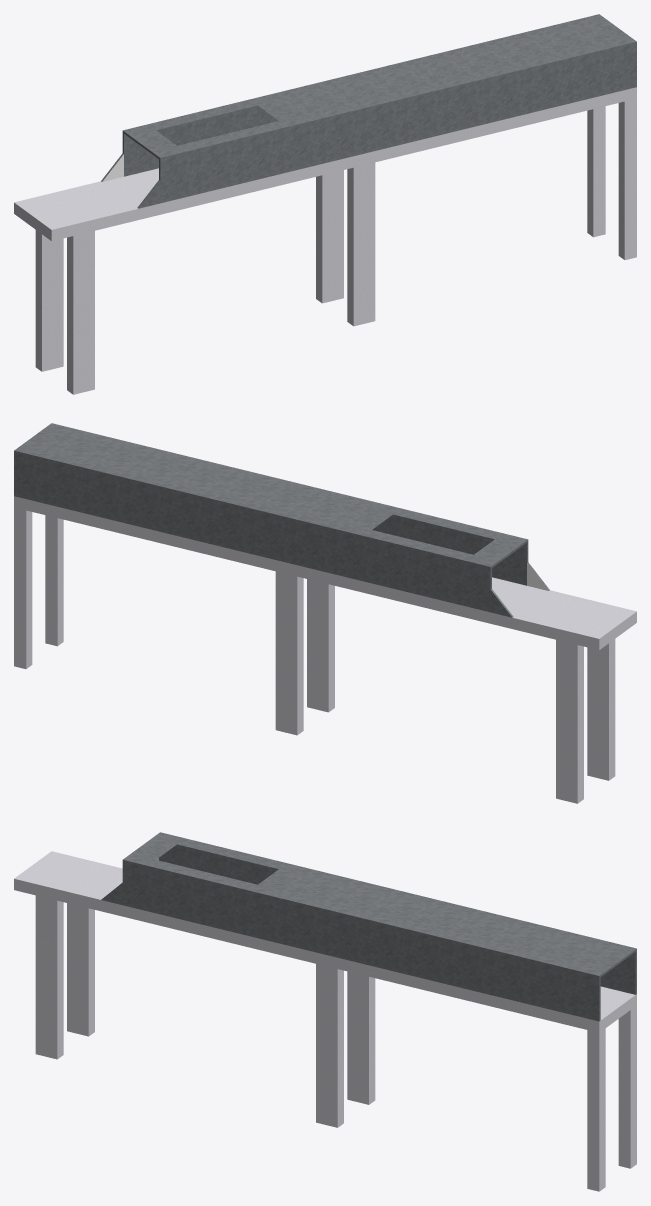
File: 给料螺旋.glb
3 renders of one model, top to bottom at view 1: azimuth 30°, elevation 25°; view 2: azimuth 150°, elevation 25°; view 3: azimuth 330°, elevation 25°, orthographic.
Bounding box in the file's own units: 2.88 × 1.01 × 0.3206.
Materials: 3 (2 with a texture image).
